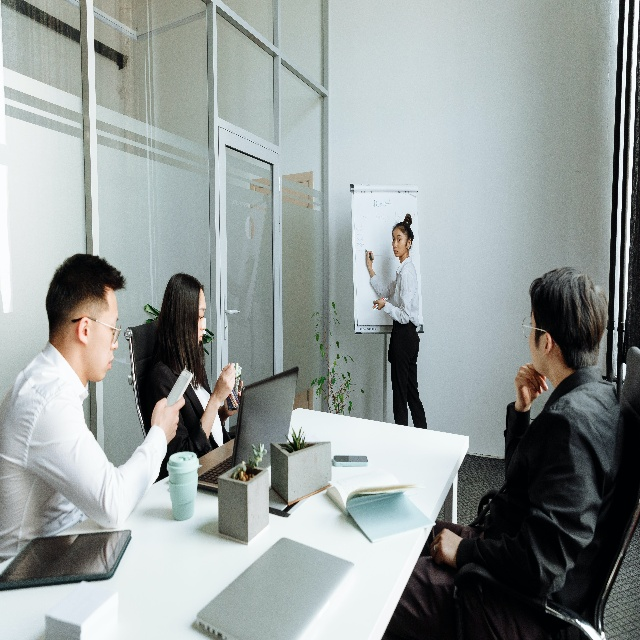Gafas: (71, 313, 121, 343), (521, 312, 558, 349)
Sin_guantes: (149, 392, 185, 443), (513, 362, 549, 405), (430, 527, 464, 570), (213, 362, 235, 401), (223, 380, 245, 416), (373, 297, 386, 311), (366, 249, 374, 270)
